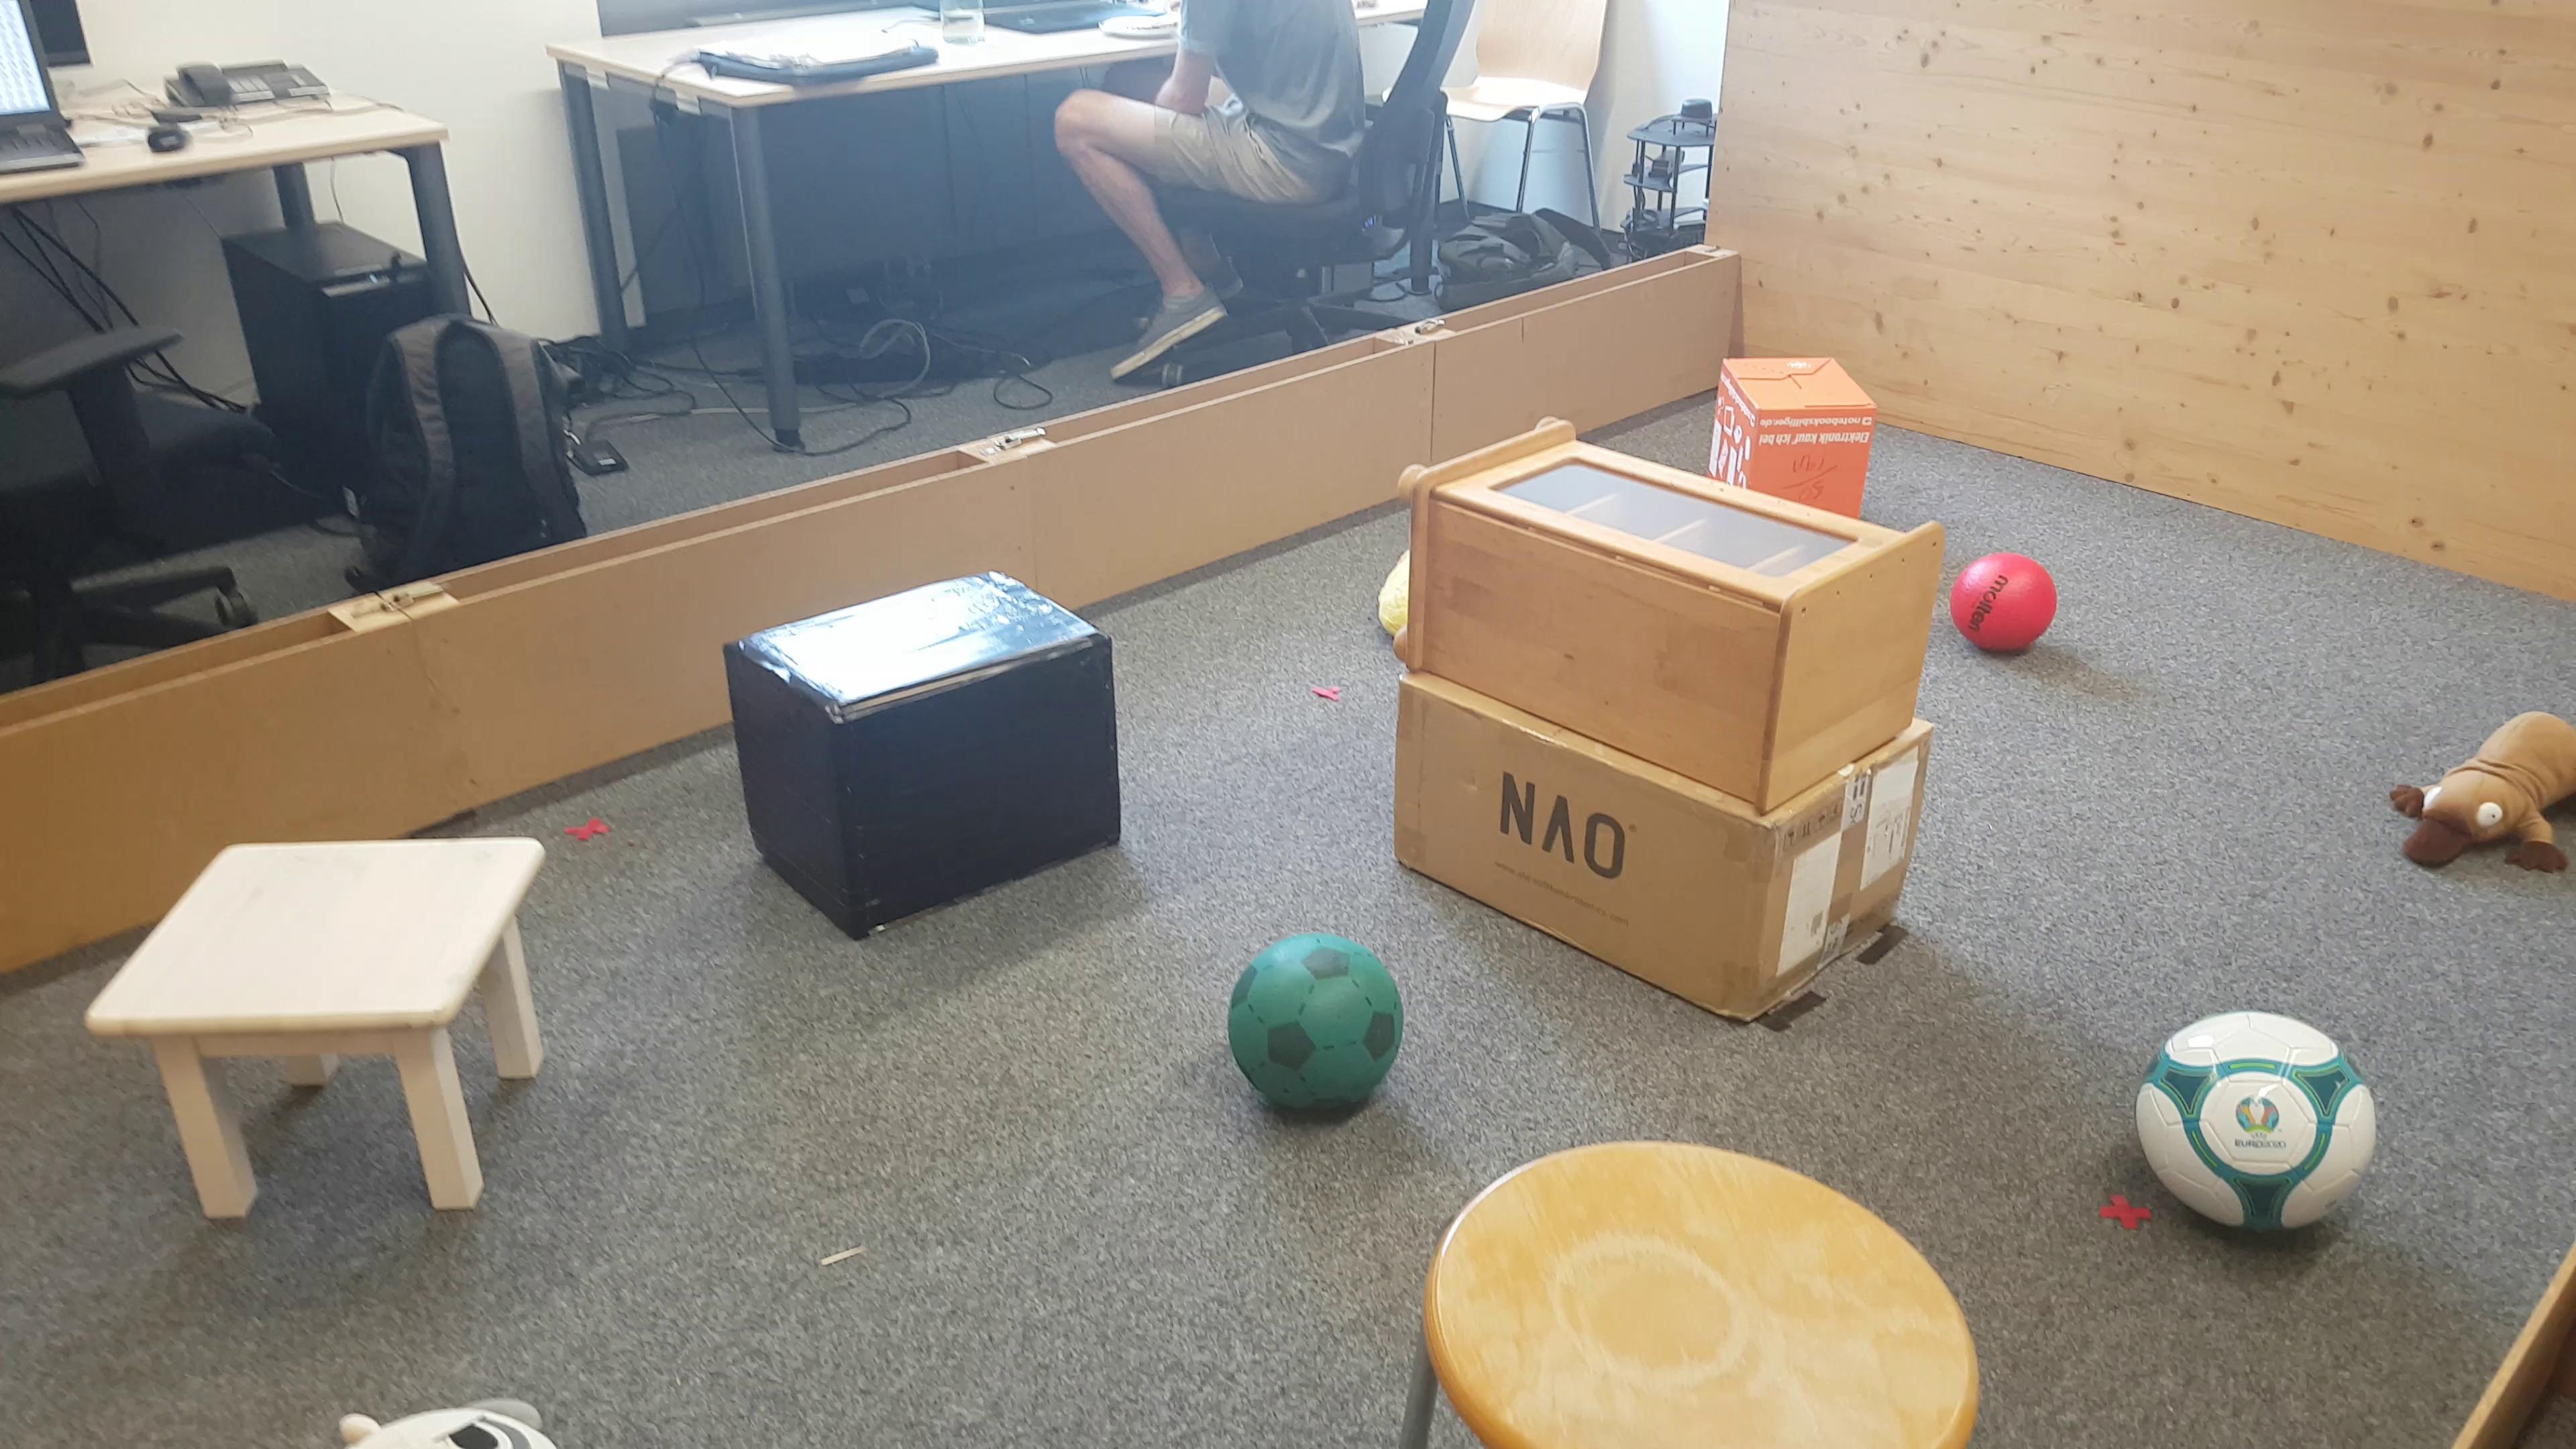grasp: (2390, 706, 2576, 881), (329, 1385, 547, 1449)
kick: (2134, 1008, 2376, 1254), (1235, 939, 1399, 1123), (1955, 556, 2058, 658)
push: (727, 566, 1127, 943), (1706, 350, 1879, 492)
